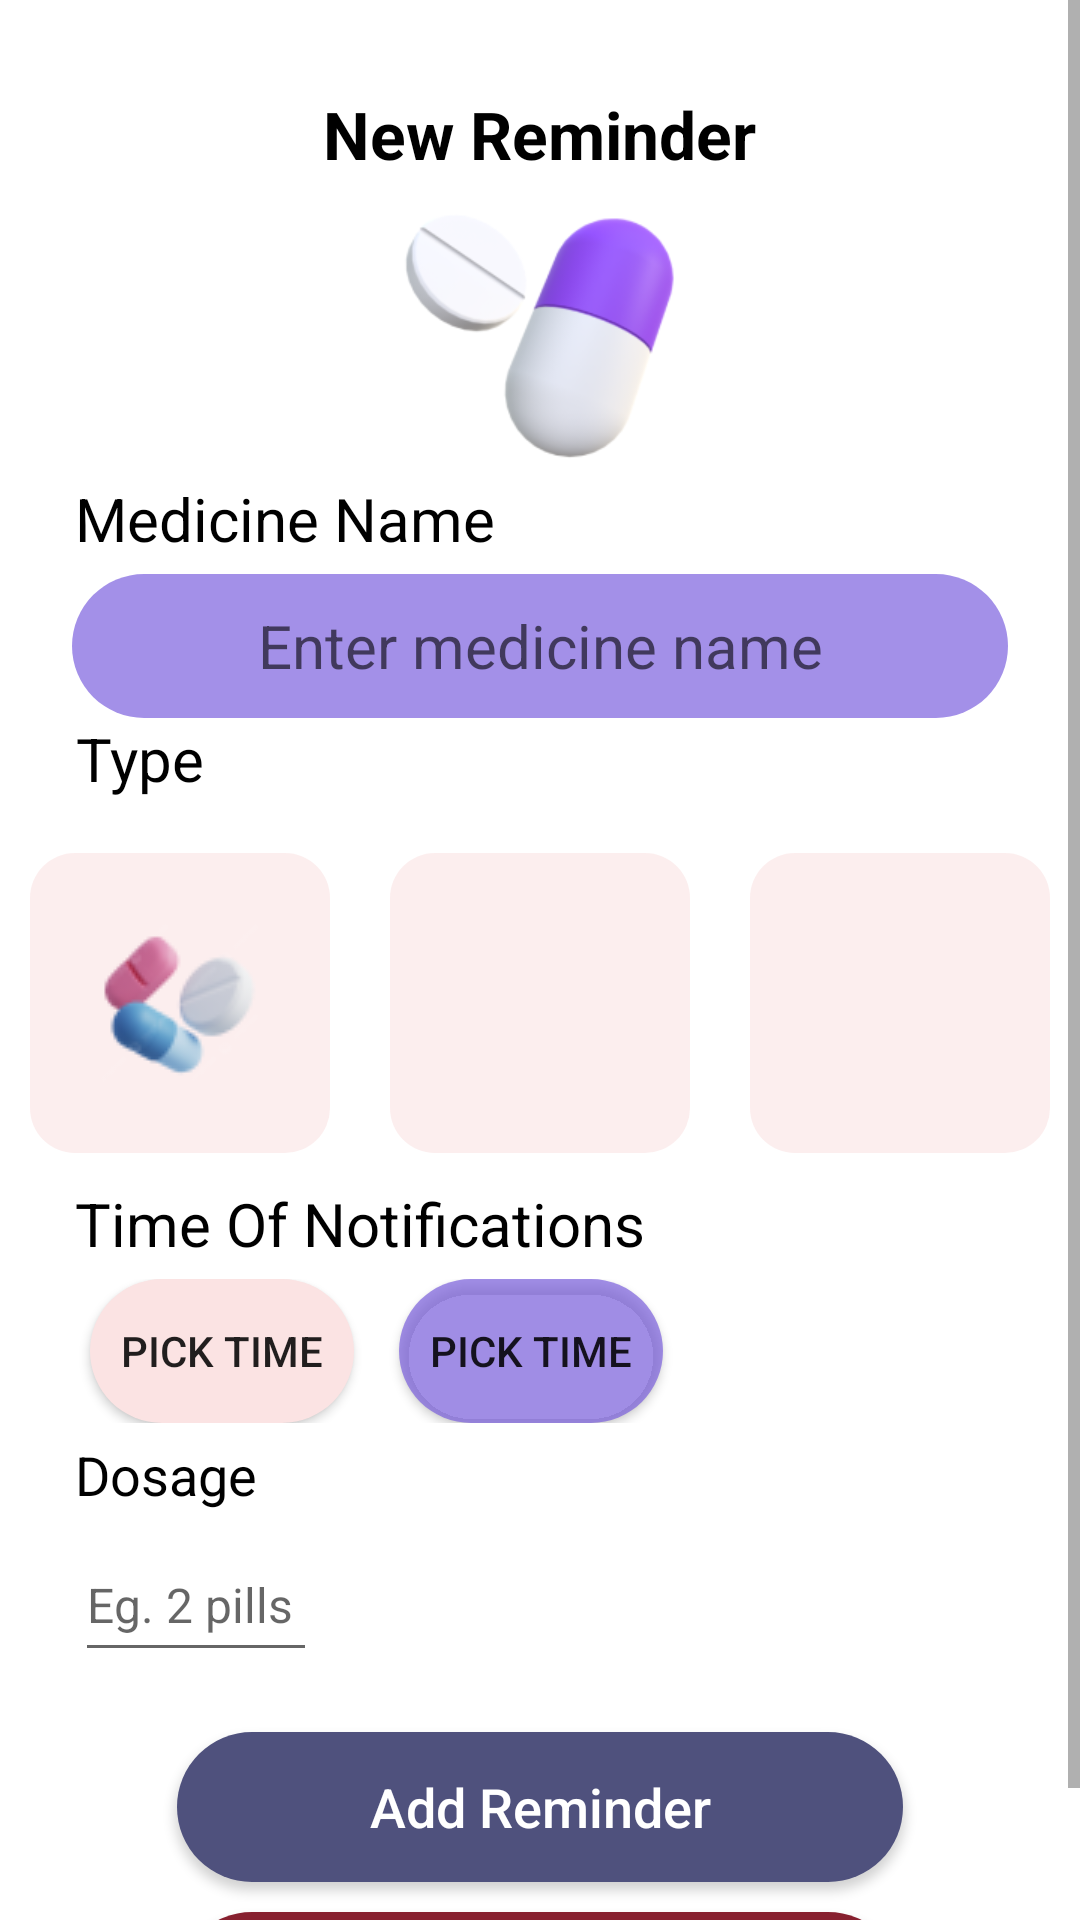

Screen size 1080px x 1920px. Icon name, then its box in pixels as (x1, y1, x2, y2):
Image of pills for medication reminderModel: (104, 936, 249, 1074)
